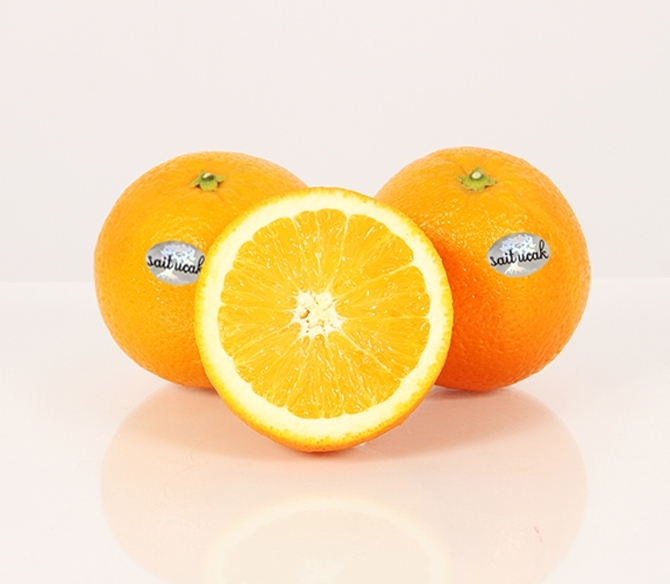orange: (347, 127, 603, 398), (87, 137, 325, 415)
